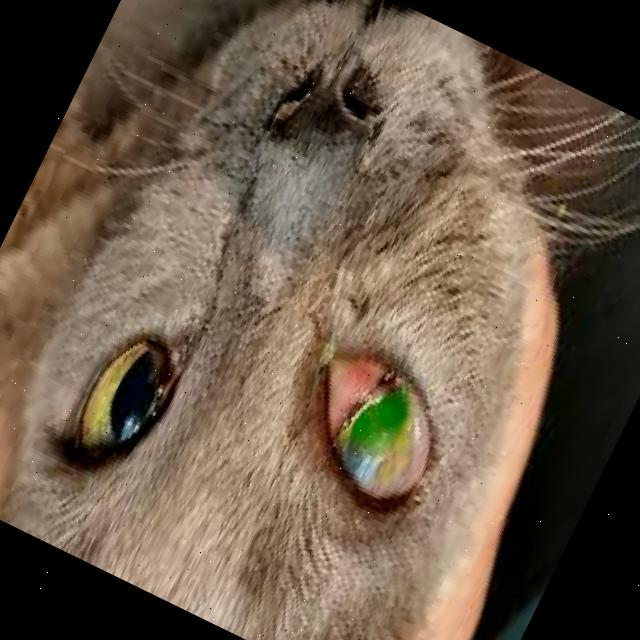cat-eye: (258, 324, 469, 544)
cat-eye-normal: (38, 308, 199, 508)
